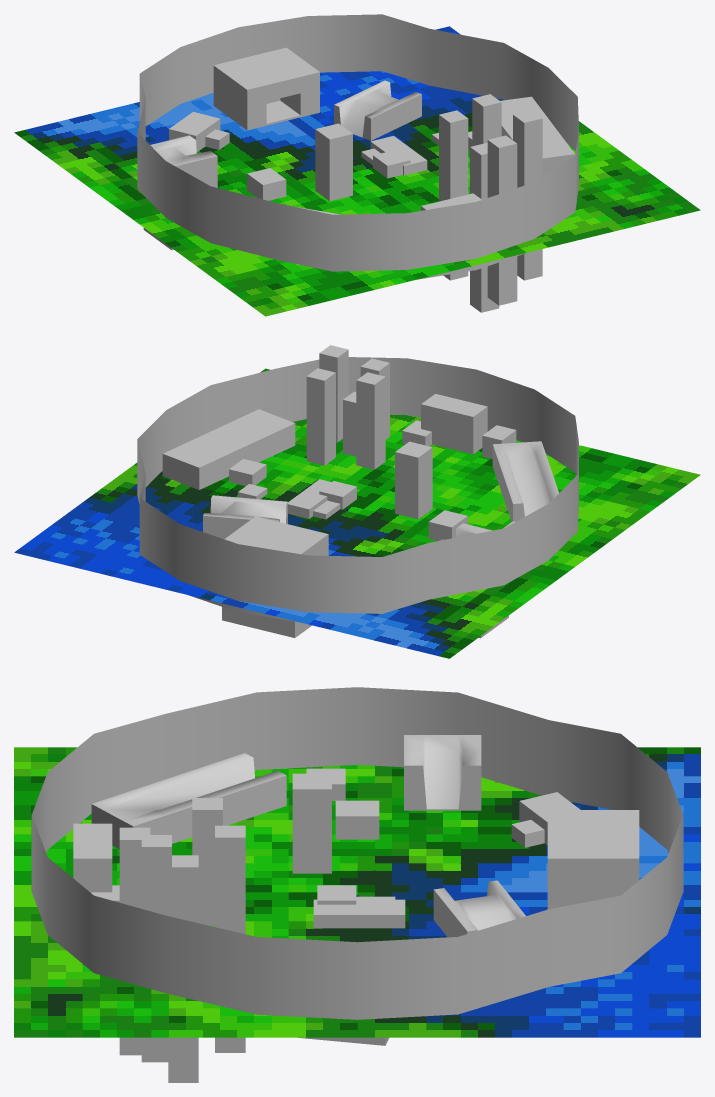
File: TESTMAP1.fbx
3 renders of one model, top to bottom at view 1: azimuth 30°, elevation 25°; view 2: azimuth 150°, elevation 25°; view 3: azimuth 270°, elevation 25°, orthographic. The views are drawn at different scales.
Visible parts, largest first — view 1: pCylinder1, pPlane1, pCube8, pCube23, pCube17, pCube13, pCube20, pCube16, pCube9, pCube15, pCube18, pCube19 (+4 smaller); view 2: pPlane1, pCylinder1, pCube9, pCube21, pCube8, pCube1, pCube19, pCube20, pCube13, pCube23, pCube16, pCube4 (+7 smaller); view 3: pCylinder1, pPlane1, pCube21, pCube8, pCube15, pCube13, pCube19, pCube16, pCube23, pCube18, pCube20, pCube1 (+7 smaller).
Part boxes in pixels (x1=…): pCylinder1: x1=137, y1=14, x2=578, y2=279; pPlane1: x1=14, y1=26, x2=700, y2=316; pCube8: x1=213, y1=47, x2=319, y2=130; pCube23: x1=334, y1=80, x2=421, y2=140; pCube17: x1=487, y1=135, x2=517, y2=305; pCube13: x1=315, y1=123, x2=352, y2=201; pCube20: x1=439, y1=110, x2=468, y2=280; pCube16: x1=513, y1=110, x2=542, y2=280; pCube9: x1=500, y1=96, x2=575, y2=176; pCube15: x1=143, y1=135, x2=217, y2=250; pCube18: x1=470, y1=142, x2=499, y2=312; pCube19: x1=472, y1=94, x2=501, y2=146; pPlane1: x1=14, y1=368, x2=700, y2=658; pCylinder1: x1=137, y1=357, x2=578, y2=621; pCube9: x1=162, y1=409, x2=295, y2=489; pCube21: x1=492, y1=441, x2=558, y2=521; pCube8: x1=222, y1=516, x2=328, y2=637; pCube1: x1=421, y1=394, x2=487, y2=454; pCube19: x1=306, y1=368, x2=335, y2=465; pCube20: x1=356, y1=372, x2=385, y2=469; pCube13: x1=395, y1=441, x2=432, y2=519; pCube23: x1=203, y1=495, x2=287, y2=539; pCube16: x1=319, y1=345, x2=348, y2=442; pCube4: x1=288, y1=479, x2=331, y2=518; pCylinder1: x1=31, y1=687, x2=683, y2=1019; pPlane1: x1=14, y1=747, x2=700, y2=1037; pCube21: x1=91, y1=753, x2=286, y2=849; pCube8: x1=547, y1=810, x2=639, y2=909; pCube15: x1=404, y1=735, x2=481, y2=810; pCube13: x1=292, y1=773, x2=331, y2=873; pCube19: x1=215, y1=825, x2=245, y2=1052; pCube16: x1=141, y1=835, x2=171, y2=1062; pCube23: x1=433, y1=880, x2=525, y2=937; pCube18: x1=168, y1=855, x2=198, y2=1082; pCube20: x1=192, y1=798, x2=222, y2=925; pCube1: x1=73, y1=823, x2=112, y2=892.
Size of the model in its own units: 861 by 357 by 861.
